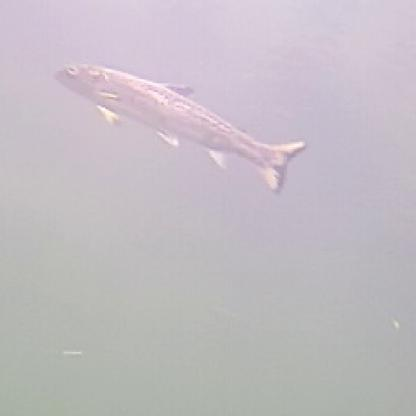salmon: (47, 54, 312, 194)
